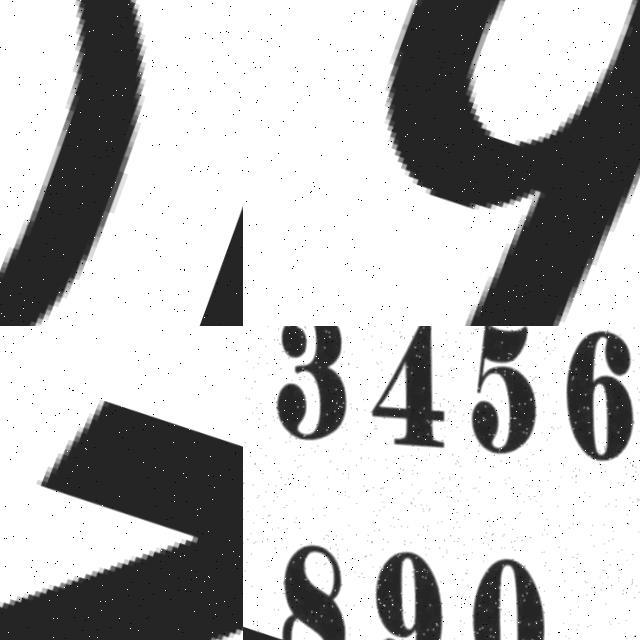0: (0, 0, 222, 326), (412, 508, 601, 640)
3: (243, 326, 397, 473)
4: (317, 326, 495, 483)
5: (410, 326, 592, 494)
6: (506, 326, 640, 503)
7: (588, 326, 640, 539)
8: (243, 500, 399, 640)
9: (310, 492, 499, 640)
Q: (287, 0, 640, 326)
Z: (0, 326, 243, 640)
